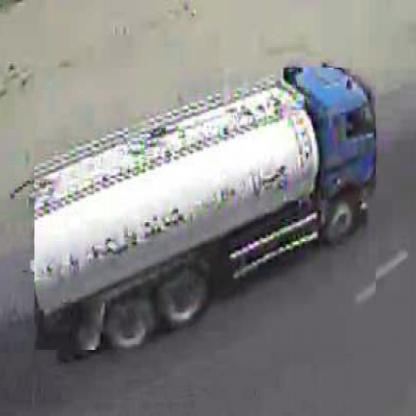truck: (35, 69, 377, 352)
